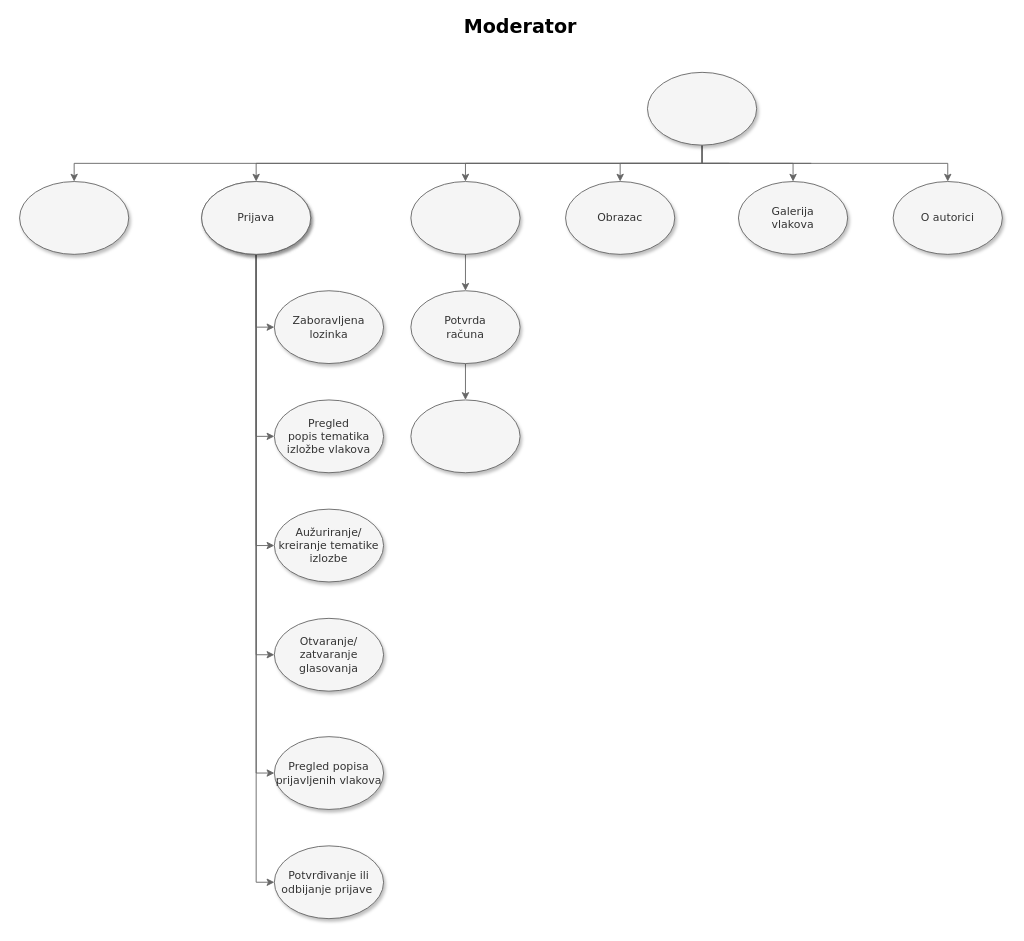
Some shapes in this 1024 by 941 pixel diagram are drawn without their labels. Each missing label, with the centre of its shape:
"Aktivacija" belongs at point (466, 437).
"Dokumentacija" belongs at point (74, 219).
"Početna stranica" belongs at point (702, 110).
"Registracija" belongs at point (466, 219).
